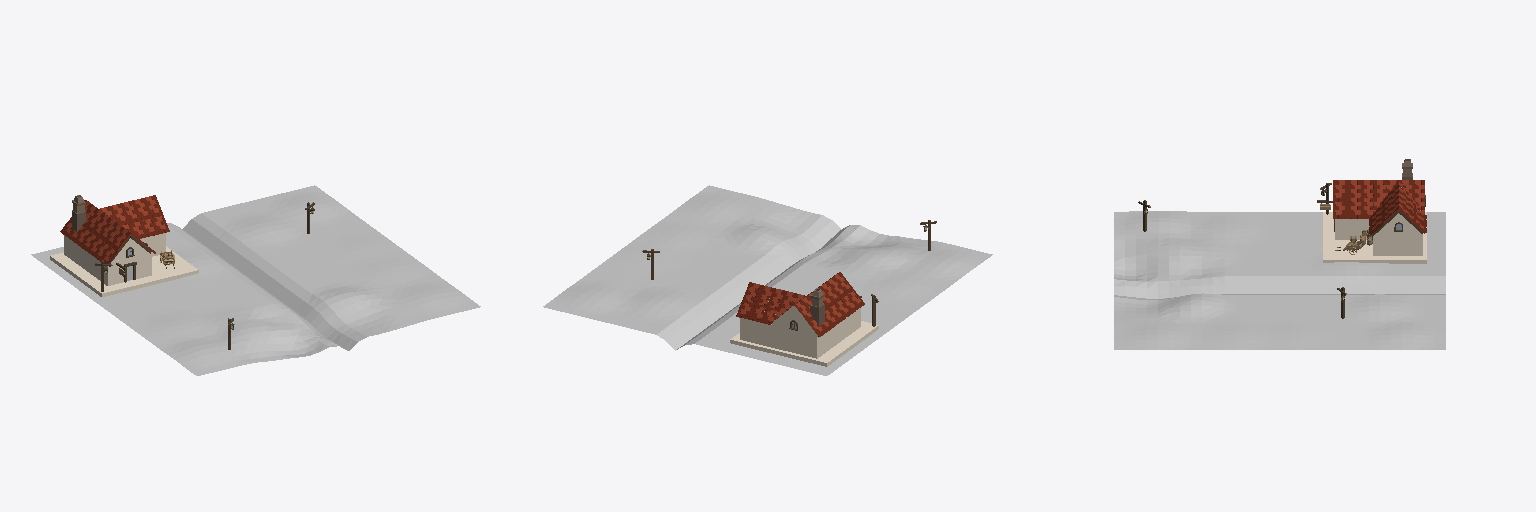
File: home.obj
3 renders of one model, left to right at view 1: azimuth 30°, elevation 25°; view 2: azimuth 150°, elevation 25°; view 3: azimuth 270°, elevation 25°, orthographic.
Parts seen in each view (by area): view 1: pPlane1, group1 newhome:object62, group1 newhome:object6; view 2: pPlane1, group1 newhome:object8, group1 newhome:object62, group1 newhome:object6; view 3: pPlane1, group1 newhome:object62, group1 newhome:object9.
Boxes of the visible parts, box(x1,y1,x2,y2) form: pPlane1: box(31, 185, 480, 375); group1 newhome:object62: box(50, 246, 198, 296); group1 newhome:object6: box(64, 235, 100, 280); pPlane1: box(543, 185, 992, 375); group1 newhome:object8: box(740, 318, 816, 358); group1 newhome:object62: box(730, 321, 878, 366); group1 newhome:object6: box(817, 312, 854, 358); pPlane1: box(1114, 211, 1445, 349); group1 newhome:object62: box(1323, 212, 1426, 263); group1 newhome:object9: box(1386, 233, 1422, 255).
Bounding box in the file's own units: 28.73 × 7.8 × 29.09.